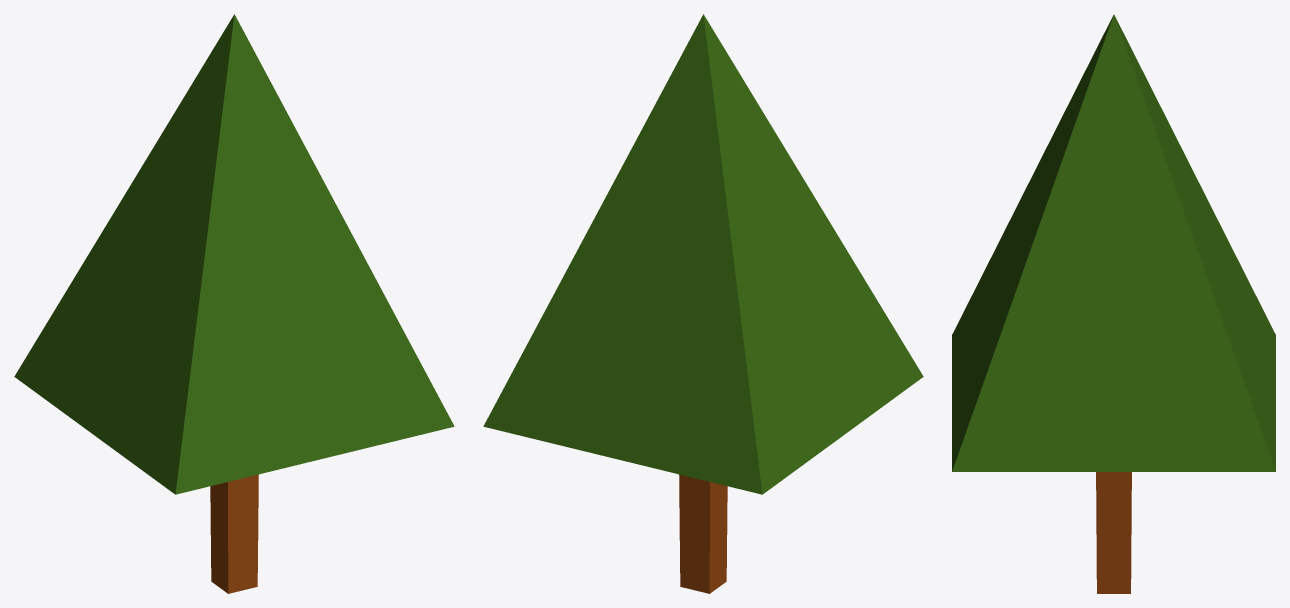
The model's file is Tree_34_Spring.fbx.
3 renders of one model, left to right at view 1: azimuth 30°, elevation 25°; view 2: azimuth 150°, elevation 25°; view 3: azimuth 270°, elevation 25°, orthographic.
Parts seen in each view (by area): view 1: Tree_34_Spring; view 2: Tree_34_Spring; view 3: Tree_34_Spring.
Part boxes in pixels (box(x1,y1,x2,y2)): Tree_34_Spring: box(14, 14, 454, 593); Tree_34_Spring: box(483, 14, 923, 593); Tree_34_Spring: box(952, 14, 1275, 593).
Bounding box in the file's own units: 134 × 262 × 134.
